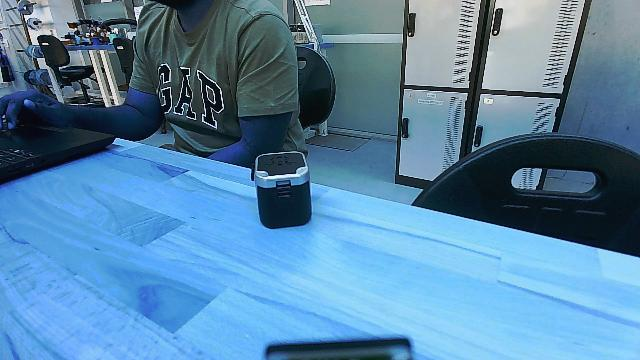adapter: (246, 148, 316, 232)
